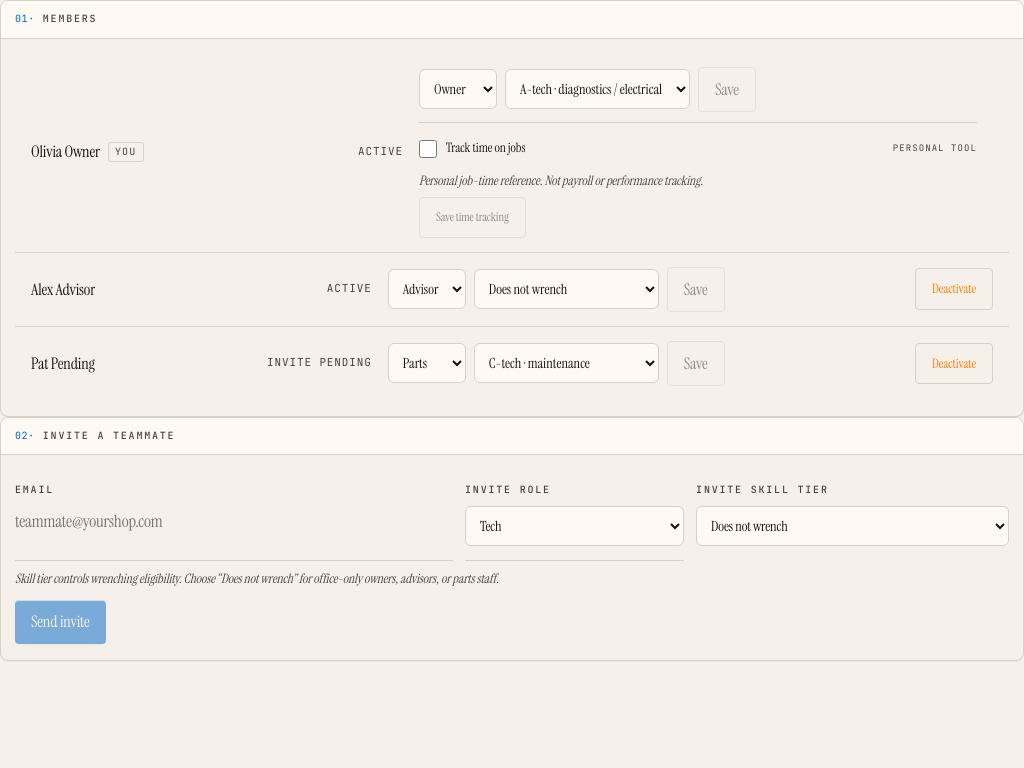
Test: TeamSection Shop OS roles › makes the owner save role and tier changes before changing time tracking
Select "B-tech · general repair" in the dropdown named "Skill tier for Olivia Owner": (598, 89) [505,69,690,109]
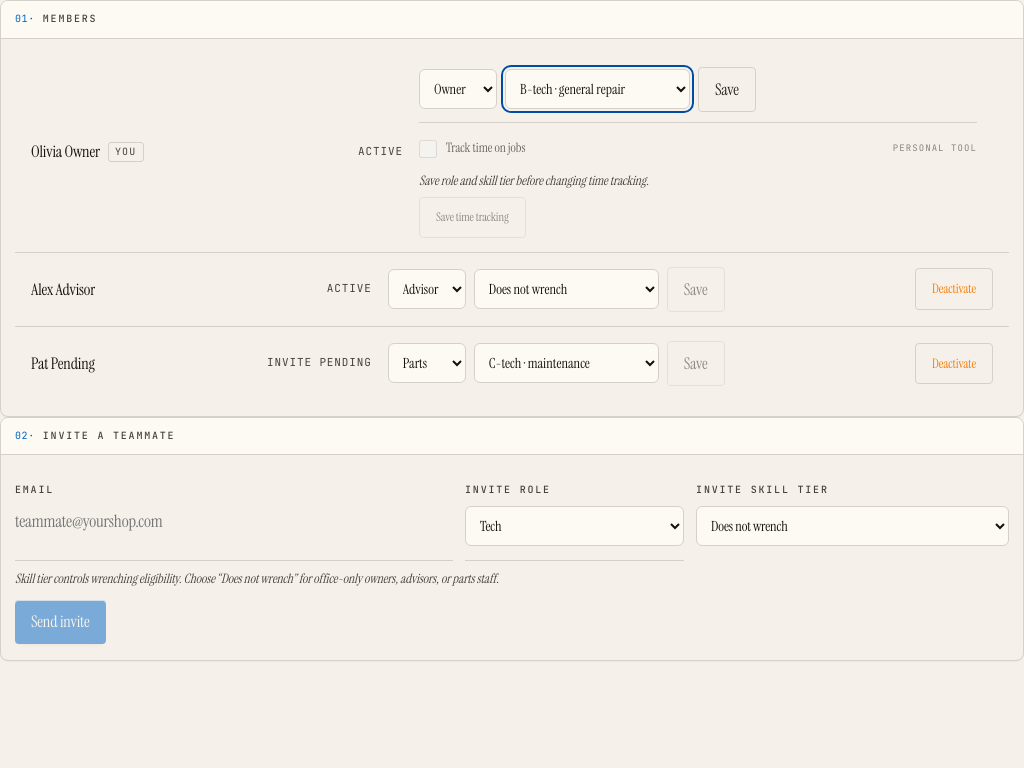
Check: the checkbox named "Track time on Olivia Owner's jobs" is disabled, box [419,140,437,158]
Check: the text "Save role and skill tier before changing time tracking." is shown, box [419,172,649,189]
